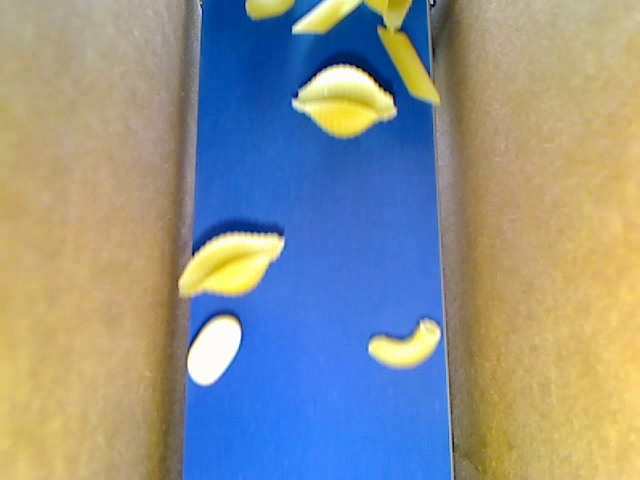elbow: (366, 317, 441, 369)
penne: (377, 28, 441, 106), (290, 1, 364, 36)
shell: (291, 61, 397, 140), (176, 231, 285, 298), (364, 1, 412, 34)
